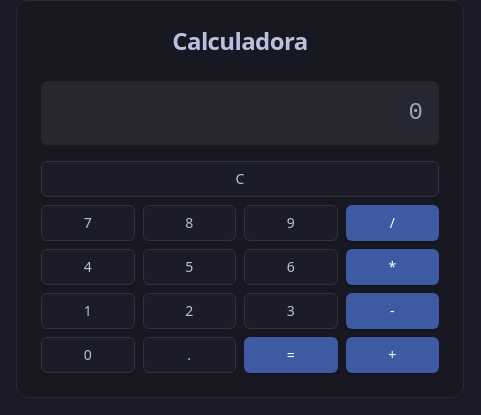
Test: Calculator Component › allows concatenating numbers
Click the button "1" at [88, 311], box [41,293,135,329]
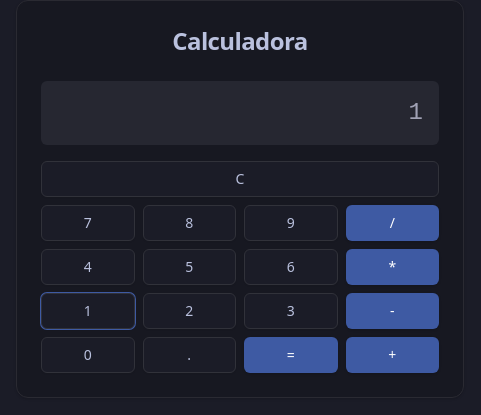
Click the button "2" at [190, 311], box [143,293,237,329]
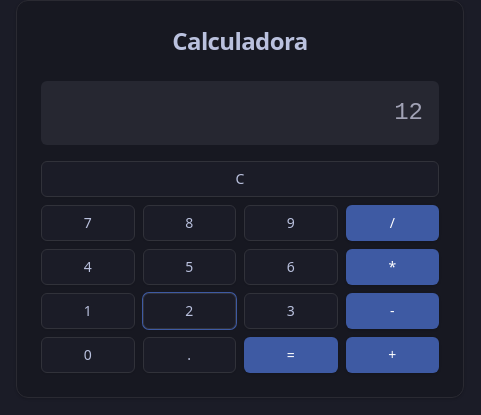
Now the text "12" is shown, box [394,99,423,126]
